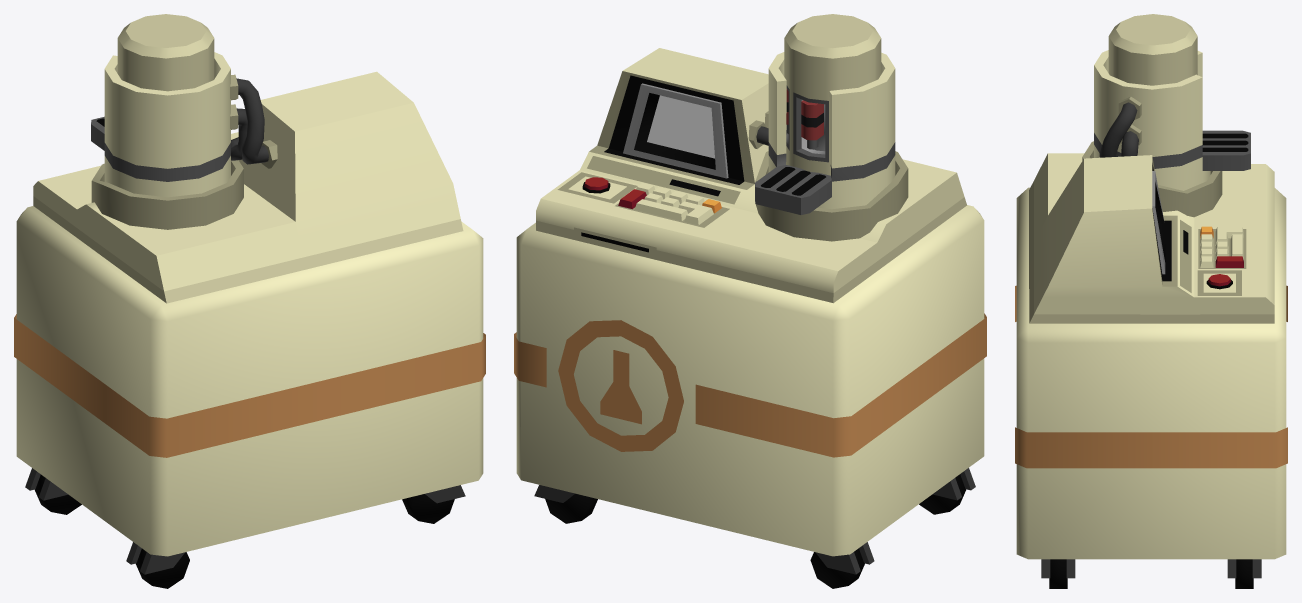
File: Chemical Dispenser.fbx
The picture shows the model from 3 angles, left to right: view 1: azimuth 30°, elevation 25°; view 2: azimuth 150°, elevation 25°; view 3: azimuth 270°, elevation 25°; orthographic projection. The views are drawn at different scales.
Parts seen in each view (by area): view 1: Chemical Dispenser, Chemical Dispenser Container; view 2: Chemical Dispenser, Chemical Dispenser Container; view 3: Chemical Dispenser, Chemical Dispenser Container.
Part boxes in pixels (x1,y1,x2,y2): Chemical Dispenser: [14, 52, 485, 588]; Chemical Dispenser Container: [117, 14, 214, 91]; Chemical Dispenser: [514, 48, 986, 588]; Chemical Dispenser Container: [784, 14, 881, 175]; Chemical Dispenser: [1015, 50, 1287, 588]; Chemical Dispenser Container: [1108, 14, 1197, 85].
Size of the model in its own units: 0.9862 by 1.41 by 0.752.
